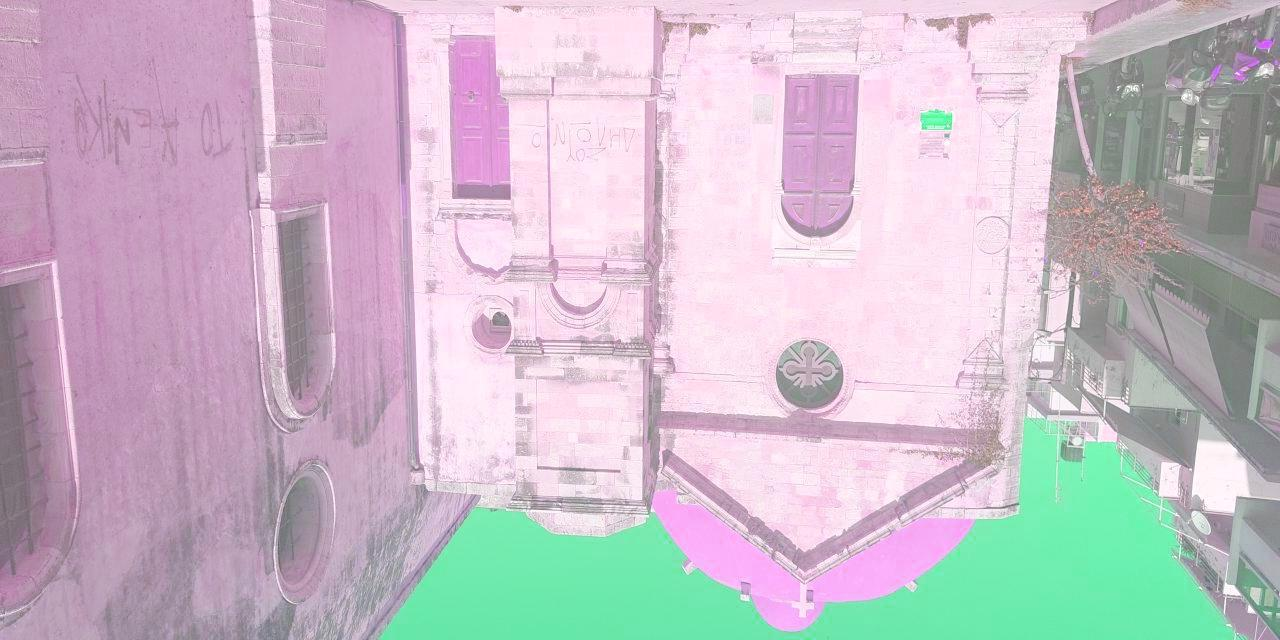Agia Aikaterini: (412, 1, 1044, 632)
